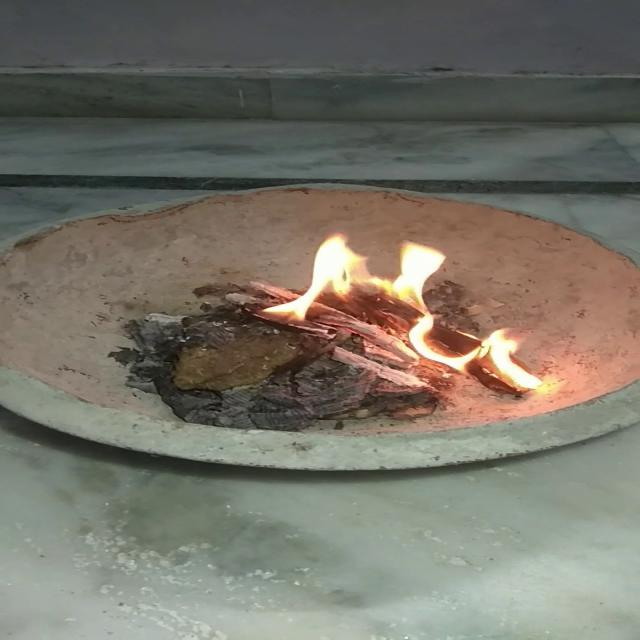fire: (294, 233, 550, 396)
